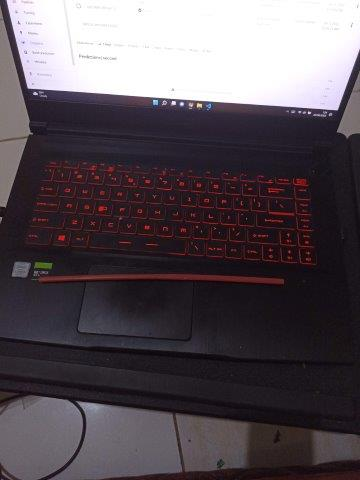sedotan: (38, 274, 284, 285)
